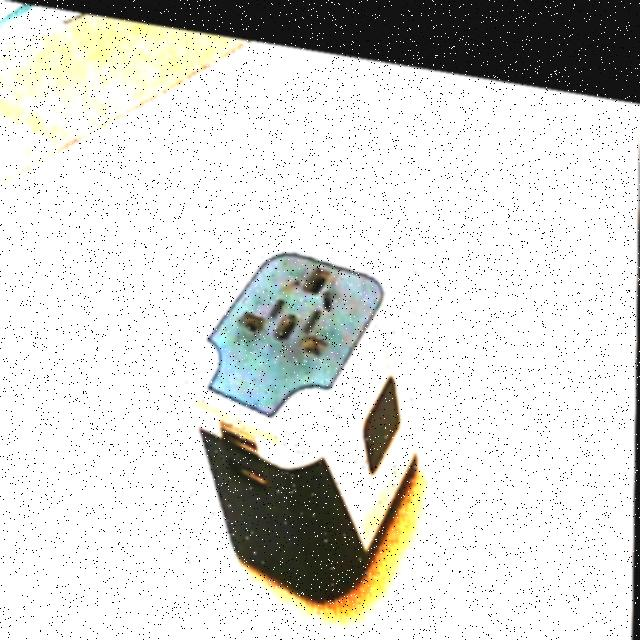adapter: (183, 217, 422, 604)
